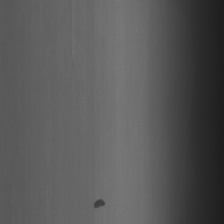oil_spot: (91, 186, 107, 214)
